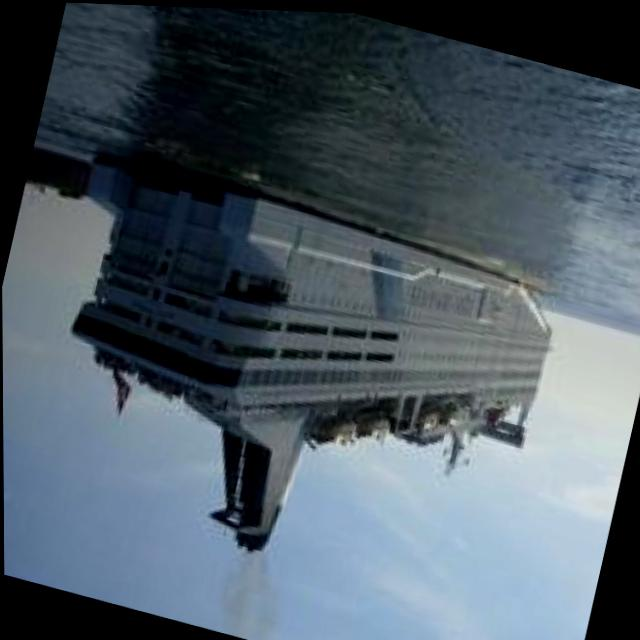ship2: (68, 147, 552, 550)
